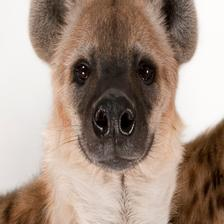hyena: (19, 0, 201, 223)
